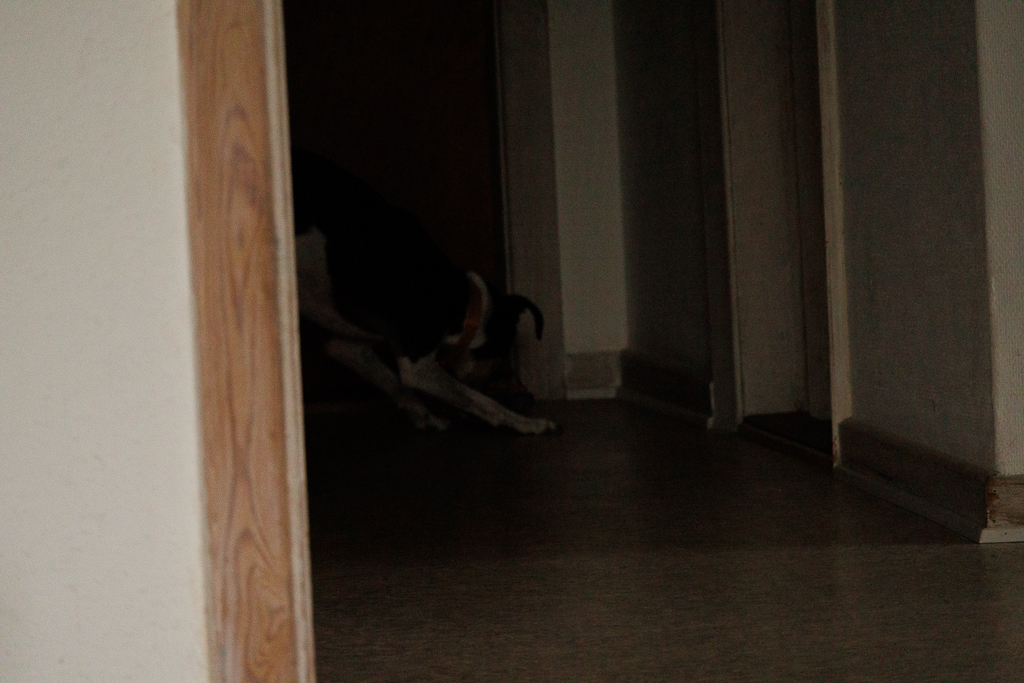Dog: (286, 204, 565, 442)
Humanoid: (506, 377, 534, 404)
